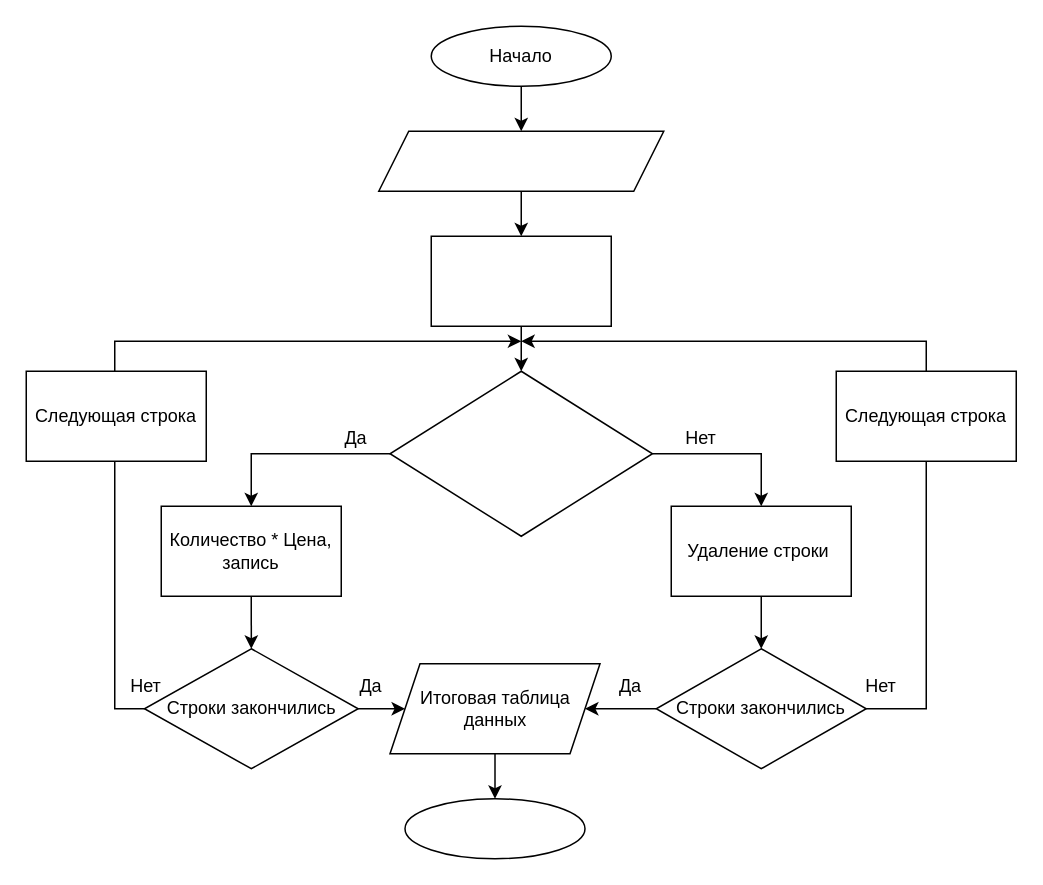
Some shapes in this 1043 by 885 pixel diagram are drawn without their labels. The centre of each missing label's shape, as x and y in pixels:
"Количество > 0" belongs at (x=520, y=453).
"Конец" belongs at (x=494, y=828).
"Поиск столбцов Цена и Количество" belongs at (x=520, y=280).
"Таблица расходы" belongs at (x=520, y=160).
